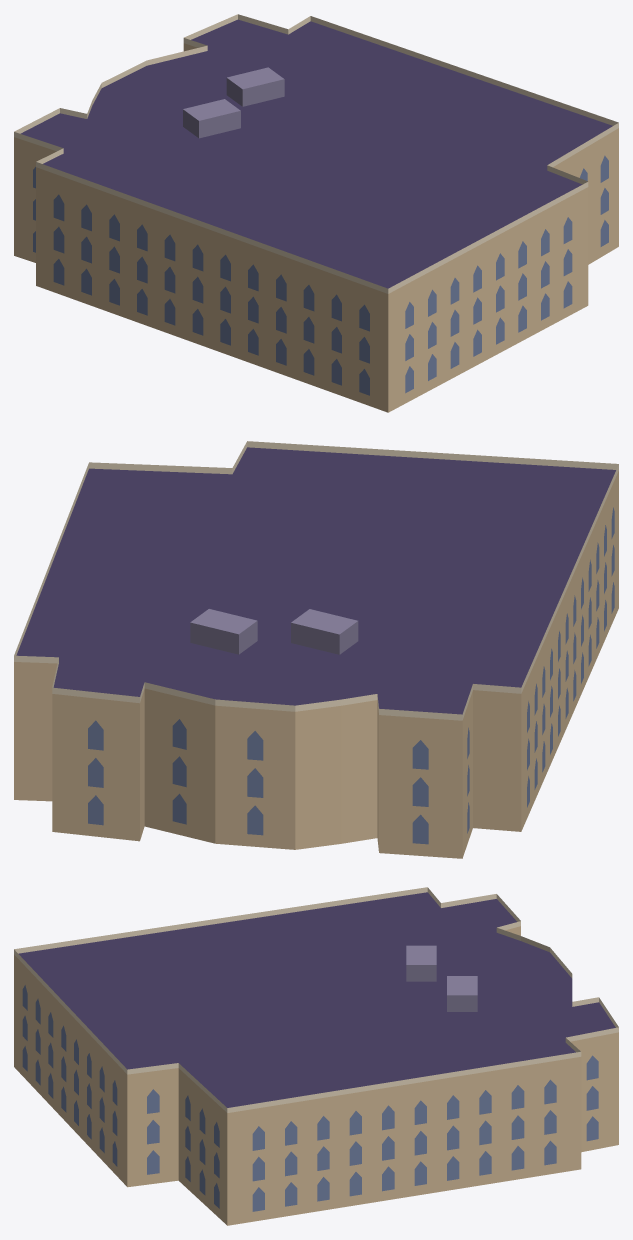
Rendered from b-081-taylor-library-day.glb.
3 views of the same model, one above another, from view 1: azimuth 30°, elevation 25°; view 2: azimuth 150°, elevation 25°; view 3: azimuth 270°, elevation 25° (orthographic). The views are drawn at different scales.
Visible parts, largest first — view 1: campus/b-081-taylor-library-day-0; view 2: campus/b-081-taylor-library-day-0; view 3: campus/b-081-taylor-library-day-0.
Boxes of the visible parts, bbox=[...] form: campus/b-081-taylor-library-day-0: bbox=[14, 14, 618, 412]; campus/b-081-taylor-library-day-0: bbox=[14, 441, 618, 858]; campus/b-081-taylor-library-day-0: bbox=[14, 887, 618, 1225].
Bounding box in the file's own units: 51.31 × 14 × 59.38.
